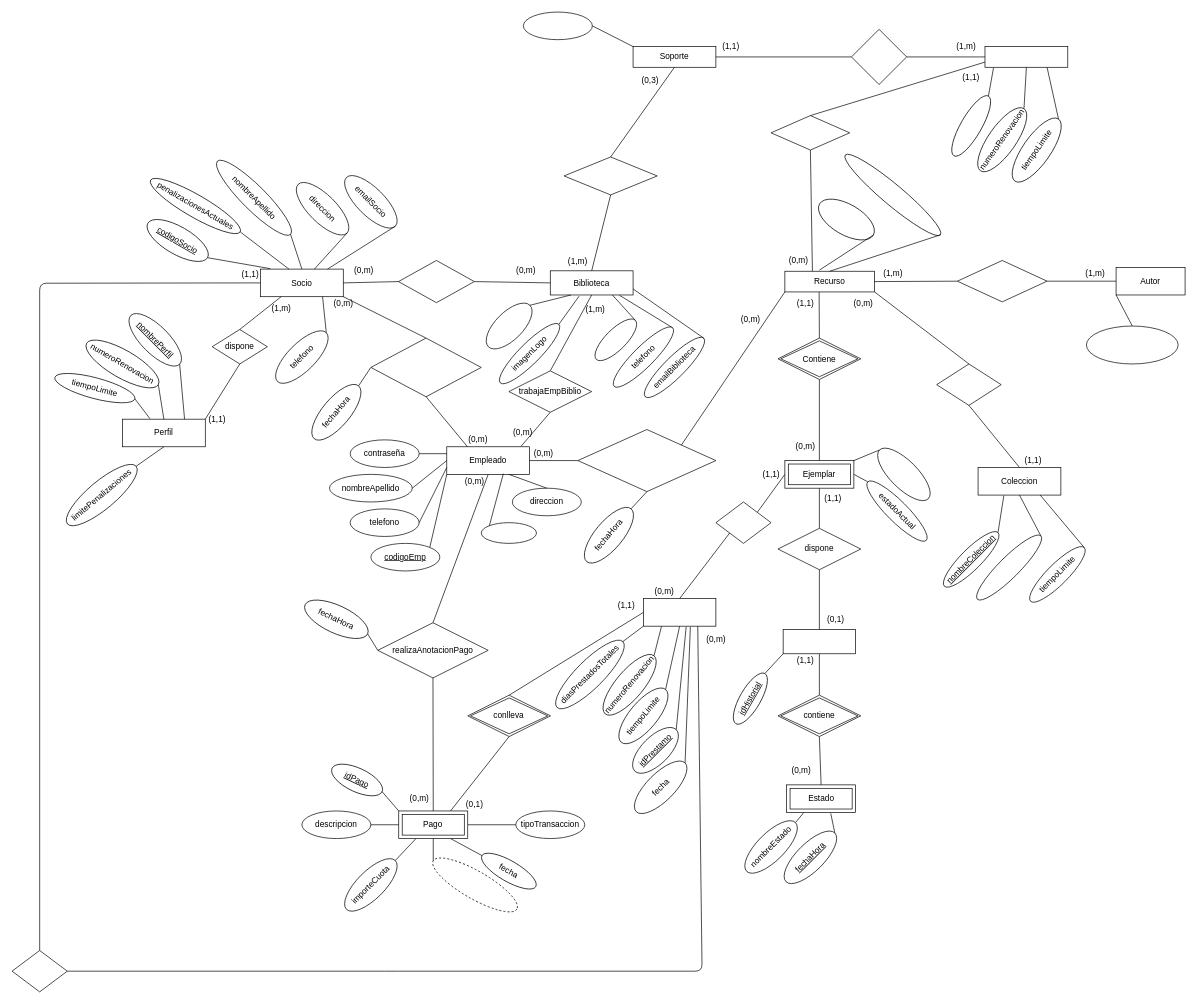
This 1197x1004 diagram has some shape labels left out. The centre of each missing label's shape, as x and y in pixels:
"codigoEjemplar" goes at point 903,474.
"declaracionResponsabilidad" goes at point 892,194.
"dni" goes at point 508,532.
"estaHecho" goes at point 879,57.
"genera" goes at point 743,522.
"HistorialEstado" goes at point 819,641.
"horario" goes at point 615,339.
"importePenalizacion" goes at point 475,884.
"Material" goes at point 1026,56.
"nombreApellidoAutor" goes at point 1132,344.
"nombreBiblio" goes at point 509,326.
"nombreMaterial" goes at point 970,125.
"nombreSoporte" goes at point 557,25.
"penalizacionEurosDia" goes at point 1008,567.
"pertenece" goes at point 968,384.
"Prestamo" goes at point 679,612.
"realiza" goes at point 39,971.
"realizaAnotacionRecurso" goes at point 646,460.
"realizaAnotacionSocio" goes at point 425,367.
"Tiene" goes at point 810,132.
"tieneBiblioSocio" goes at point 436,281.
"tieneBiblioSoporte" goes at point 610,175.
"tieneRecursoAutor" goes at point 1002,281.
"tituloRecurso" goes at point 846,219.
